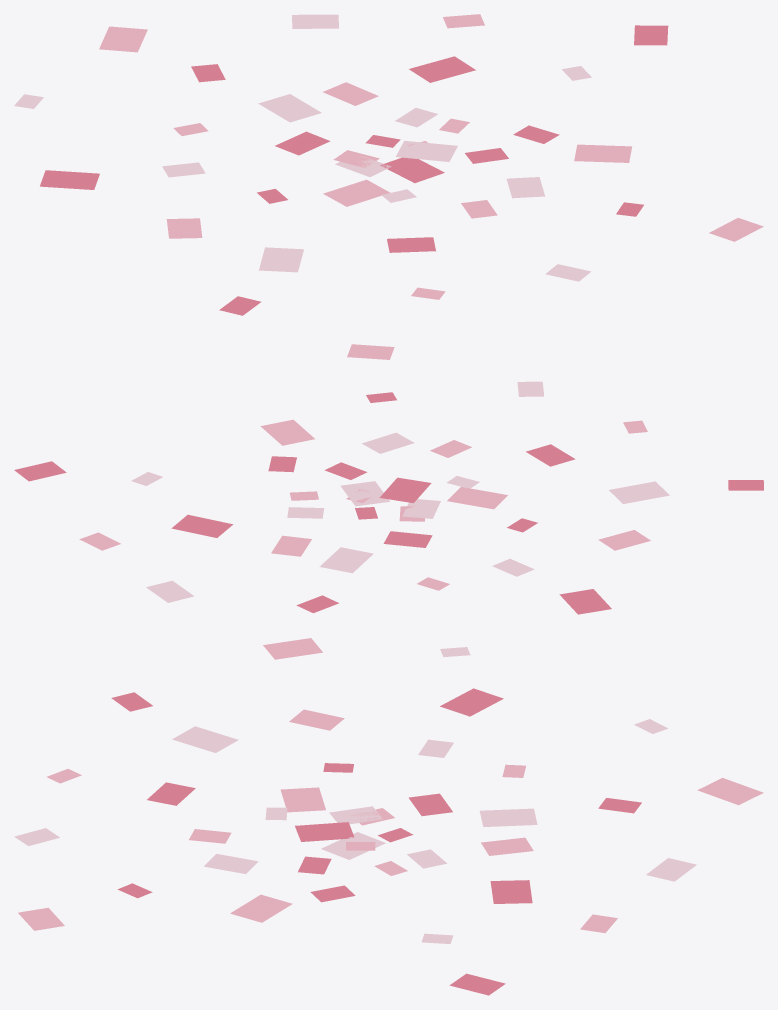
File: sakura_petal_patches.glb
The picture shows the model from 3 angles, top to bottom: view 1: azimuth 30°, elevation 25°; view 2: azimuth 150°, elevation 25°; view 3: azimuth 270°, elevation 25°; orthographic projection. The views are drawn at different scales.
Visible parts, largest first — view 1: SakuraPetalCluster; view 2: SakuraPetalCluster; view 3: SakuraPetalCluster.
Boxes of the visible parts, left/top/right/bottom form: SakuraPetalCluster: left=14, top=14, right=763, bottom=315; SakuraPetalCluster: left=14, top=344, right=763, bottom=659; SakuraPetalCluster: left=14, top=688, right=763, bottom=995.
Size of the model in its own units: 4.85 by 2.08e-17 by 5.
